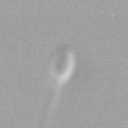normal: (34, 81, 68, 128)
